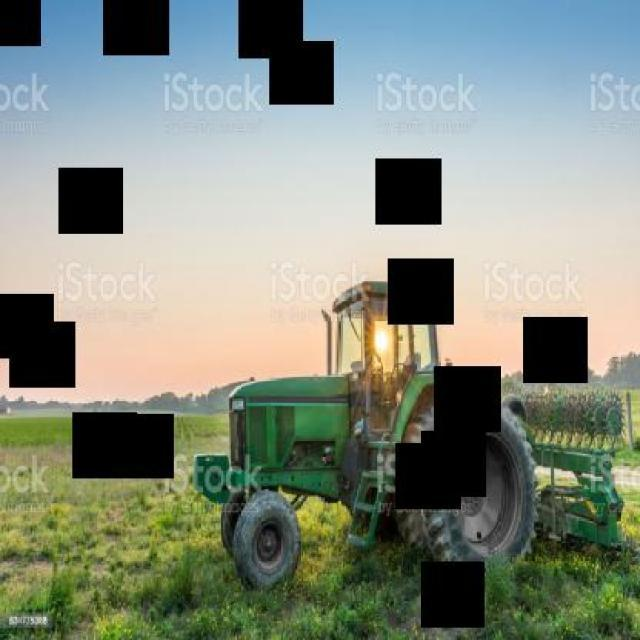Tratores - v5 YOLO V8L 2024-11-13: (169, 227, 550, 640)
